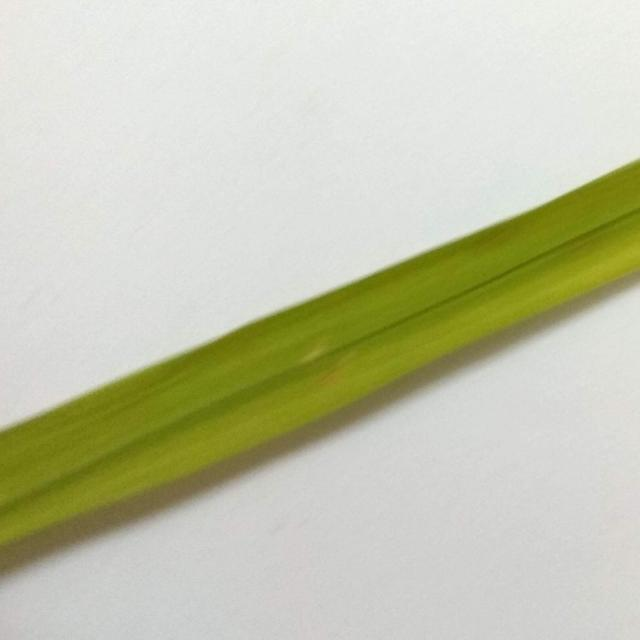healthy: (0, 143, 640, 570)
